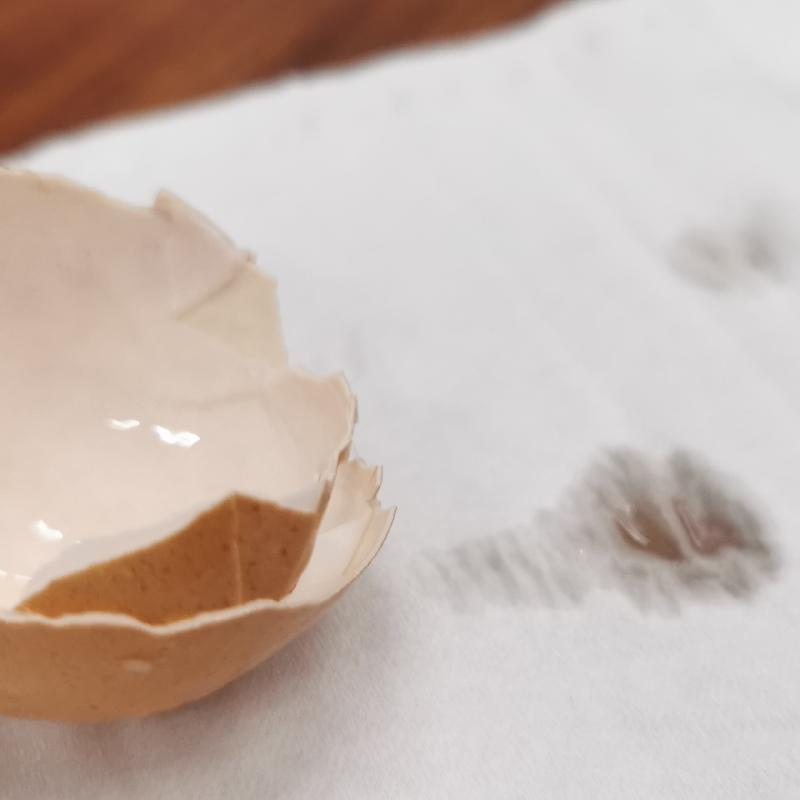eggshell: (6, 154, 387, 727)
